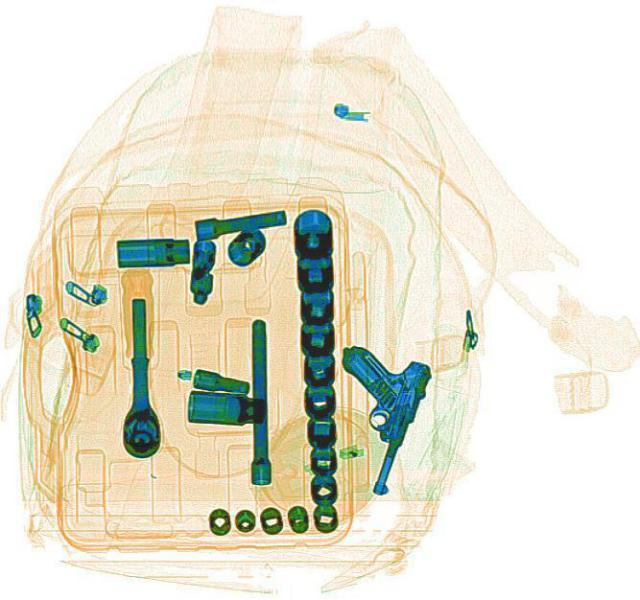Gun: (292, 338, 436, 495)
